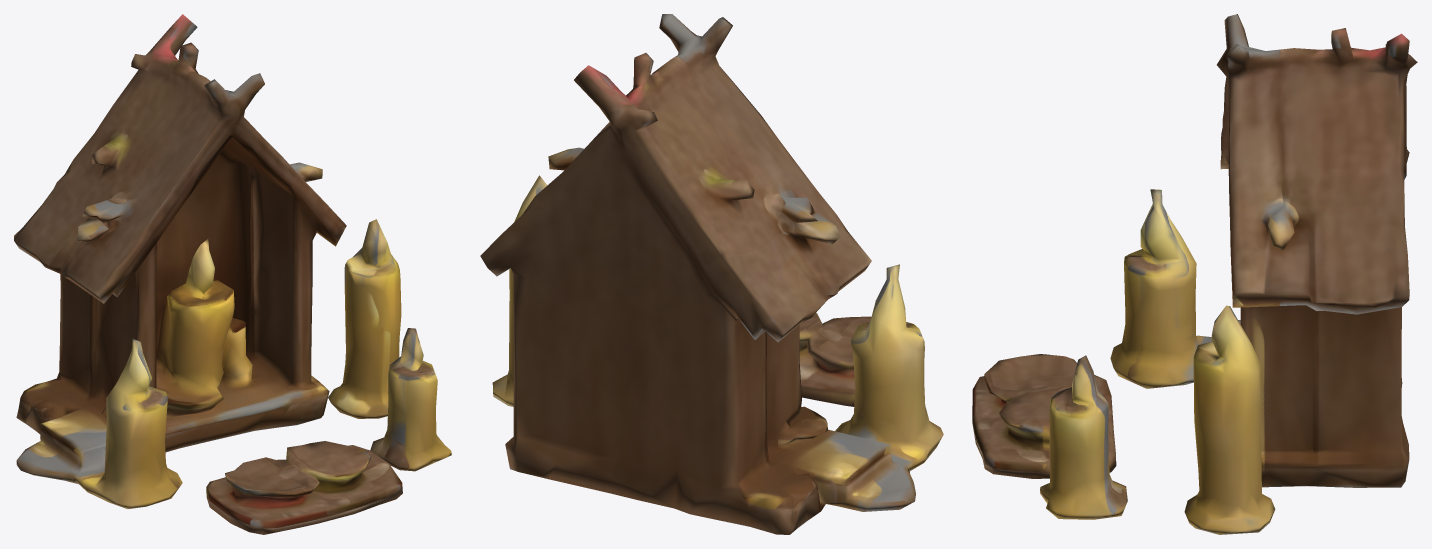
File: shrine.glb
3 renders of one model, left to right at view 1: azimuth 30°, elevation 25°; view 2: azimuth 150°, elevation 25°; view 3: azimuth 270°, elevation 25°, orthographic. The views are drawn at different scales.
Parts seen in each view (by area): view 1: tripo_node_2d168084-393b-44f8-9c13-70fb773b9eba; view 2: tripo_node_2d168084-393b-44f8-9c13-70fb773b9eba; view 3: tripo_node_2d168084-393b-44f8-9c13-70fb773b9eba.
Part boxes in pixels (<box>): tripo_node_2d168084-393b-44f8-9c13-70fb773b9eba: <box>14,14,451,534</box>; tripo_node_2d168084-393b-44f8-9c13-70fb773b9eba: <box>480,14,943,534</box>; tripo_node_2d168084-393b-44f8-9c13-70fb773b9eba: <box>972,14,1417,534</box>.
Bounding box in the file's own units: 1 × 0.9404 × 0.9052.
Materials: 1 (1 with a texture image).
